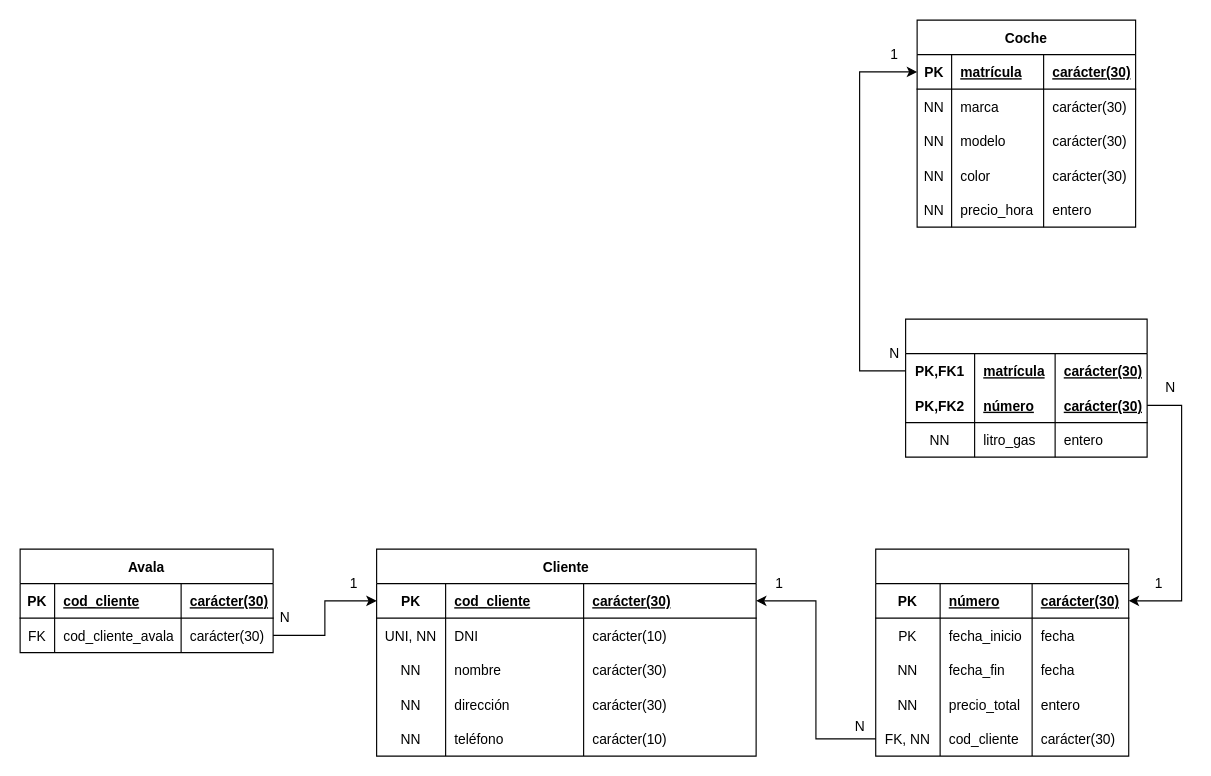
The diagram is 1211 pixels wide and 776 high, and some of its shapes have lost their labels. Each missing label, with the box of its shape:
Reserva: (875, 548, 1129, 756)
Reserva-Coche: (904, 318, 1147, 457)
